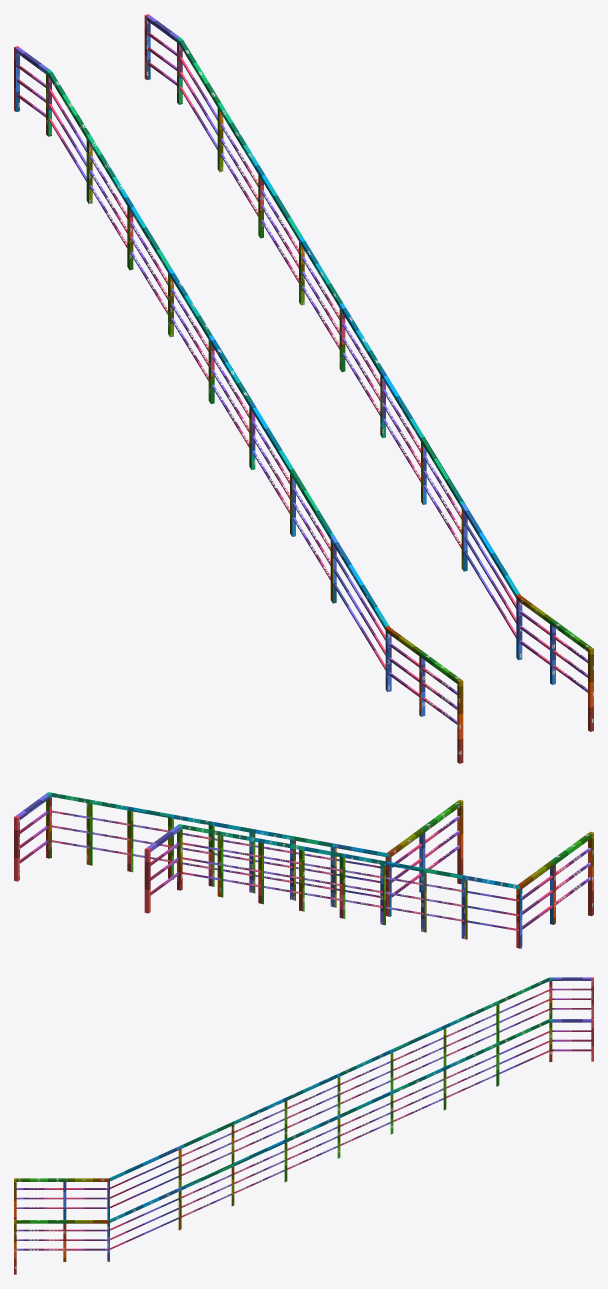
File: Rembarde.fbx
The picture shows the model from 3 angles, top to bottom: view 1: azimuth 30°, elevation 25°; view 2: azimuth 150°, elevation 25°; view 3: azimuth 270°, elevation 25°; orthographic projection. The views are drawn at different scales.
Visible parts, largest first — view 1: polySurface8200; view 2: polySurface8200; view 3: polySurface8200.
Part boxes in pixels (box(x1,y1,x2,y2)): polySurface8200: box(14, 14, 593, 763); polySurface8200: box(14, 792, 593, 948); polySurface8200: box(14, 977, 593, 1274).
Size of the model in its own units: 275 by 762 by 1574.
